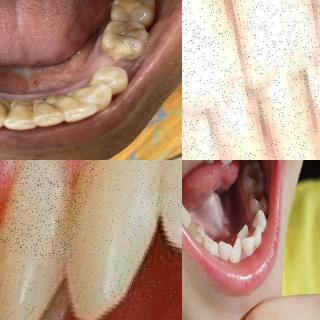Gum Swelling: (0, 160, 109, 214)
calculus: (65, 84, 90, 105), (44, 91, 67, 113), (8, 96, 30, 117), (84, 73, 106, 94), (30, 95, 50, 118), (0, 94, 12, 116)
cavities: (108, 23, 140, 48), (245, 167, 261, 185)
maligned: (229, 236, 243, 264), (233, 224, 250, 245), (240, 237, 256, 259), (217, 160, 234, 168)
